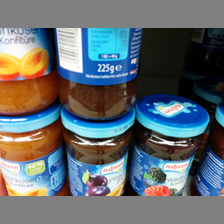jam: (54, 28, 142, 122), (130, 94, 209, 197), (60, 107, 135, 196), (1, 113, 69, 196), (1, 29, 58, 118)
